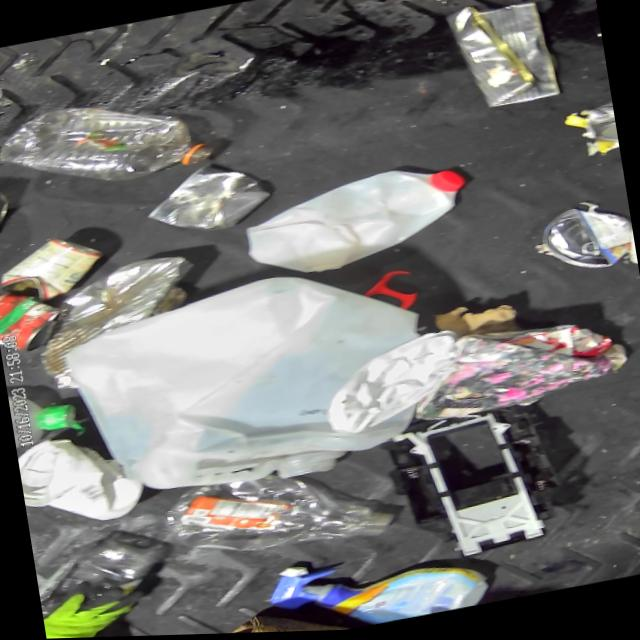can: (28, 247, 217, 396), (141, 154, 280, 244), (0, 229, 108, 308), (537, 199, 638, 283), (0, 279, 71, 356), (578, 101, 619, 153)
milk_jug: (56, 252, 442, 519), (236, 157, 479, 287)
plastic_bottle: (154, 447, 397, 577), (0, 77, 221, 204), (44, 525, 172, 605)
